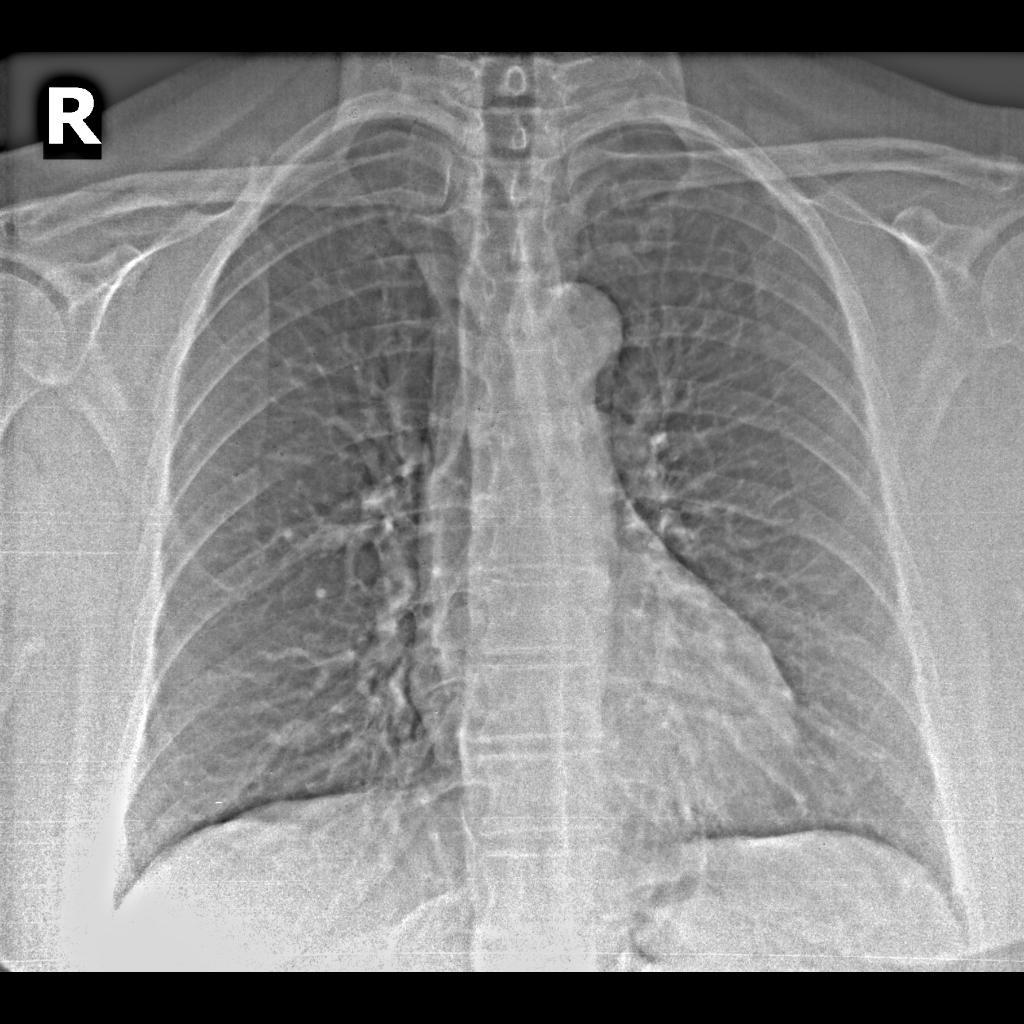Nodule: (267, 701, 330, 765)
